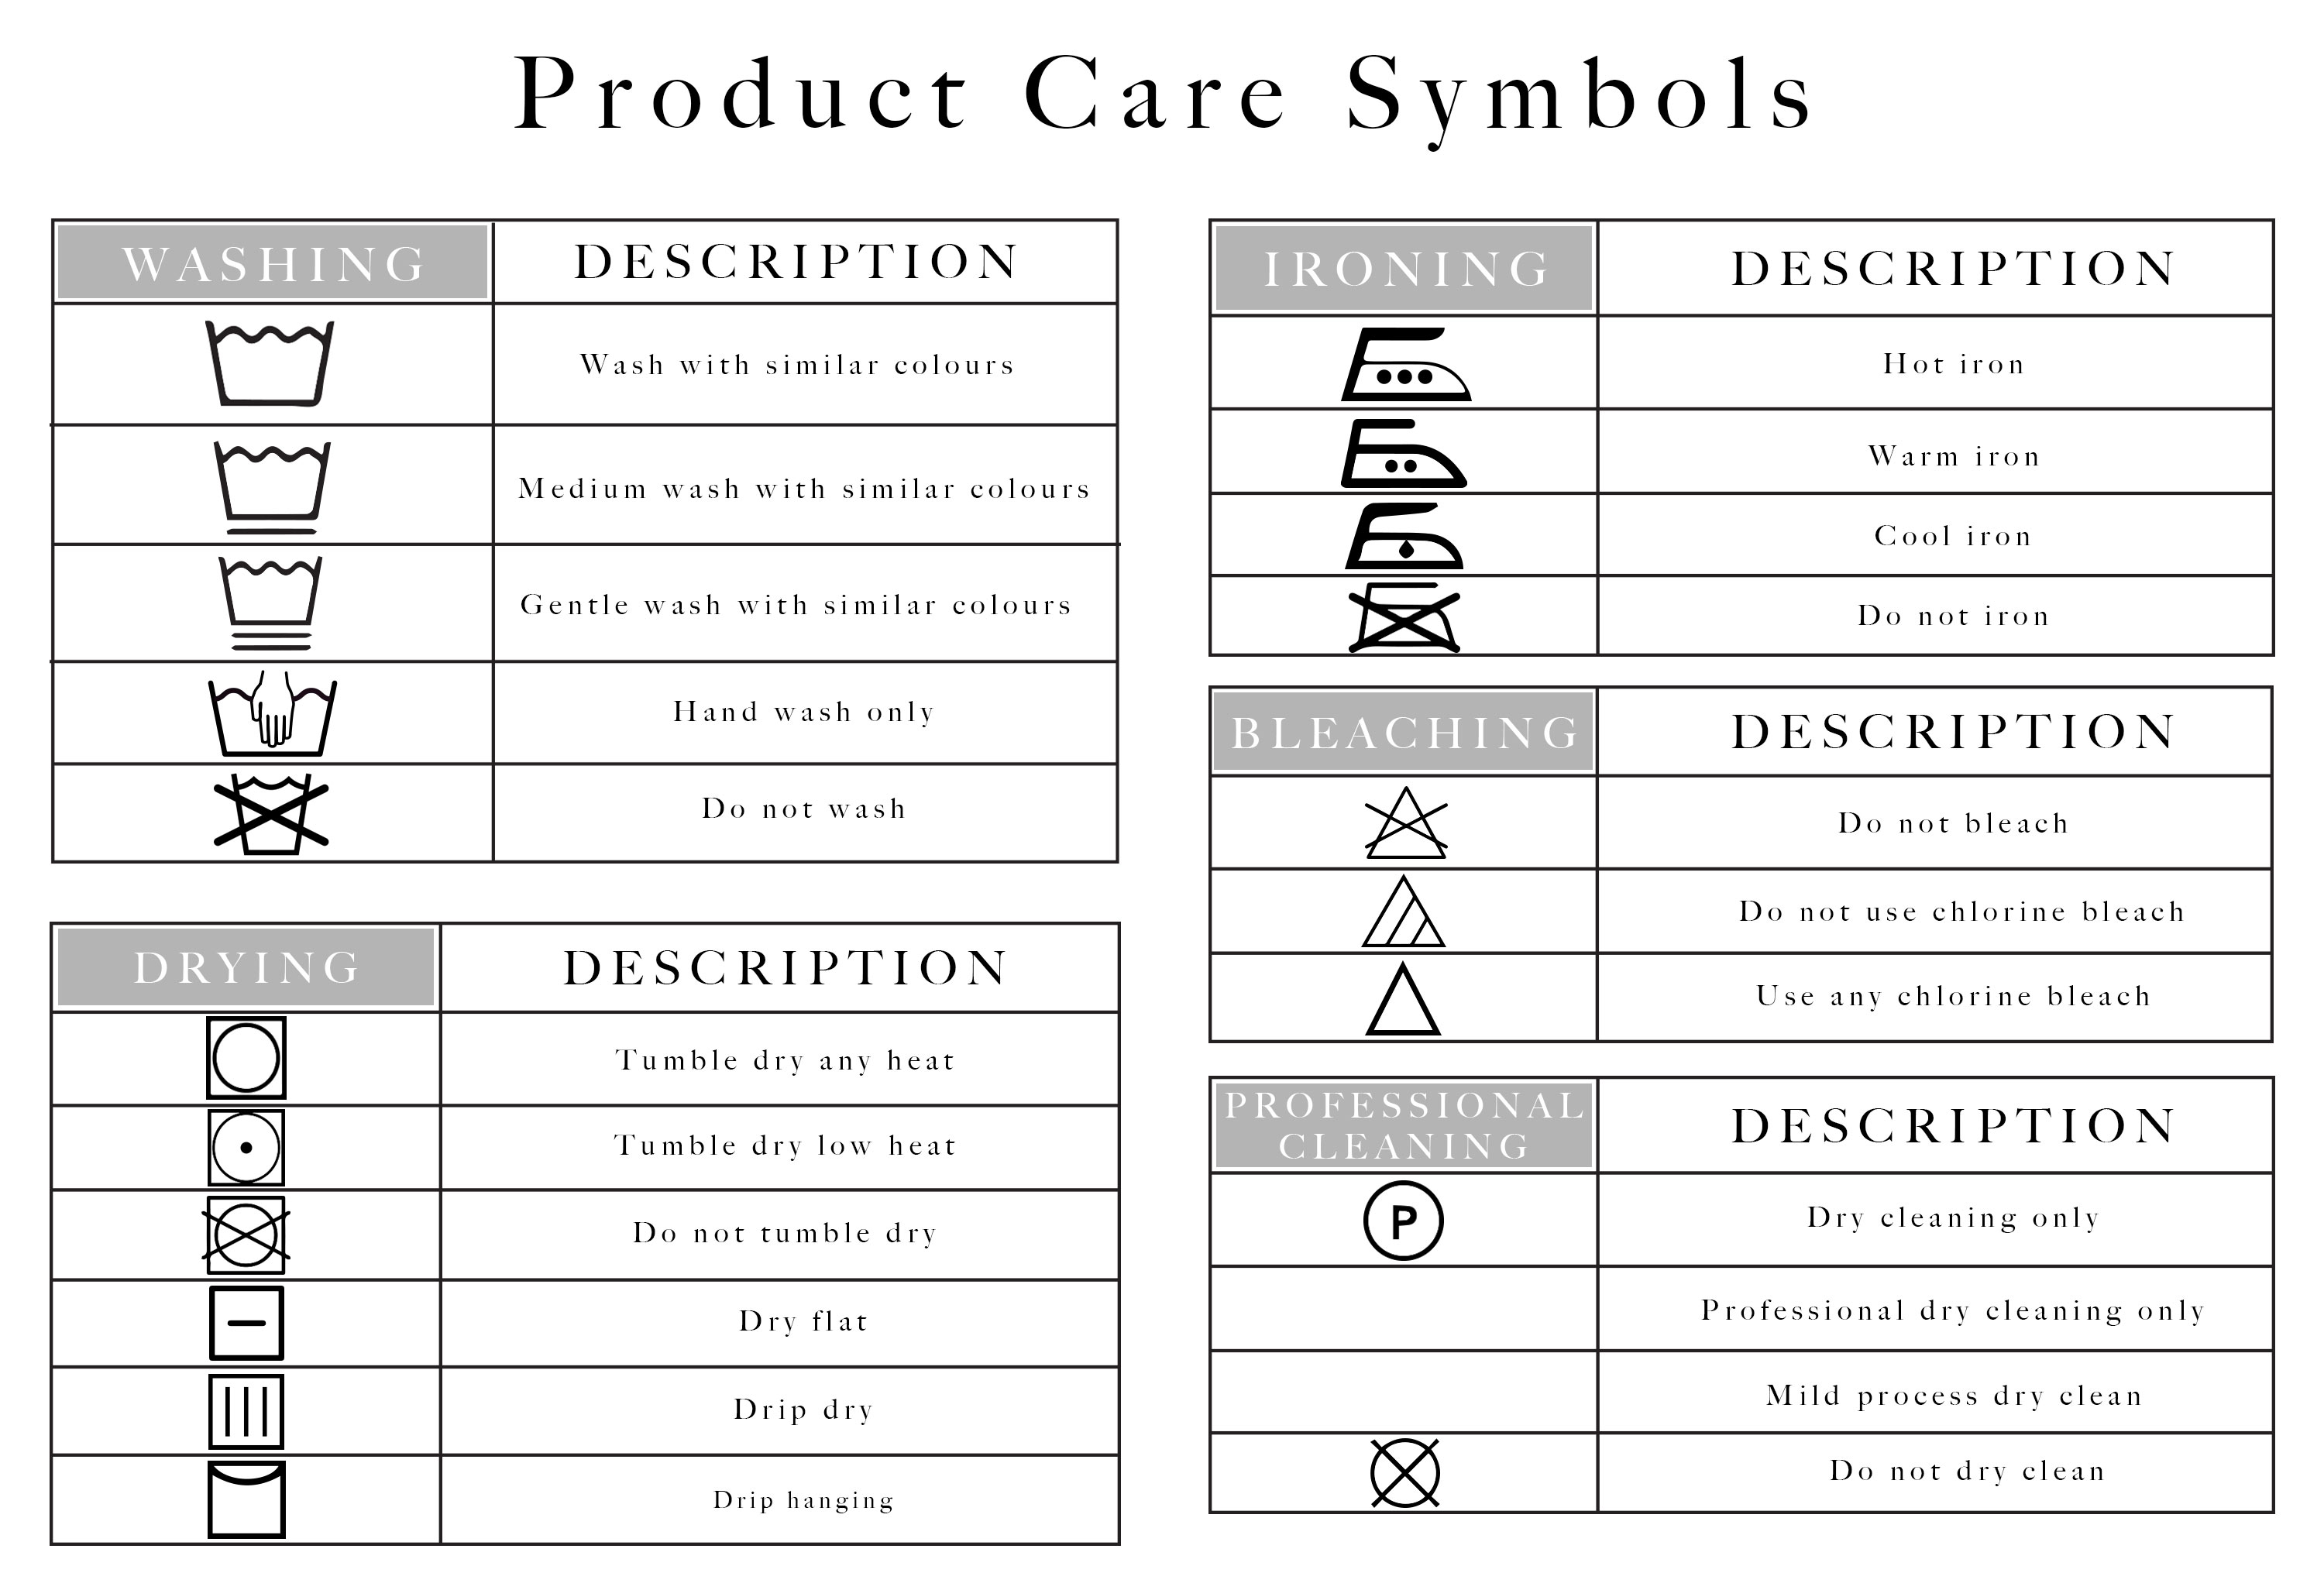do_not_bleach: (1363, 784, 1450, 868)
do_not_dry_clean: (1363, 1435, 1450, 1509)
do_not_iron: (1346, 574, 1468, 658)
do_not_wash: (219, 771, 336, 858)
